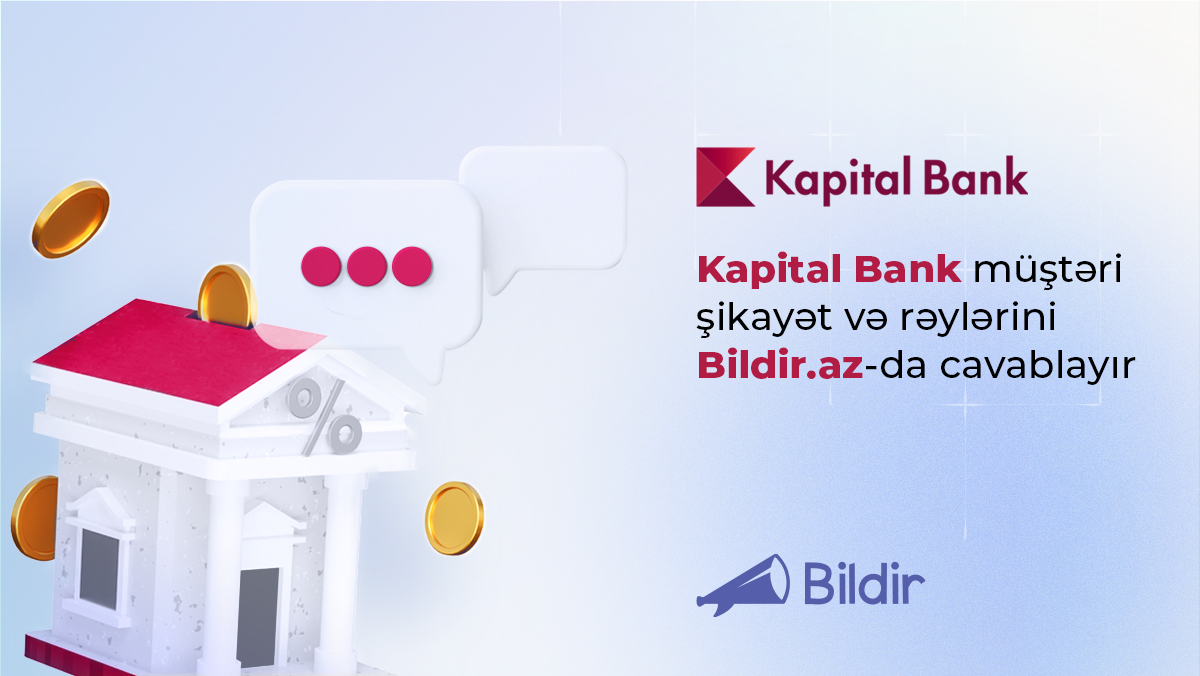Kapital Bank: (694, 145, 758, 207)
